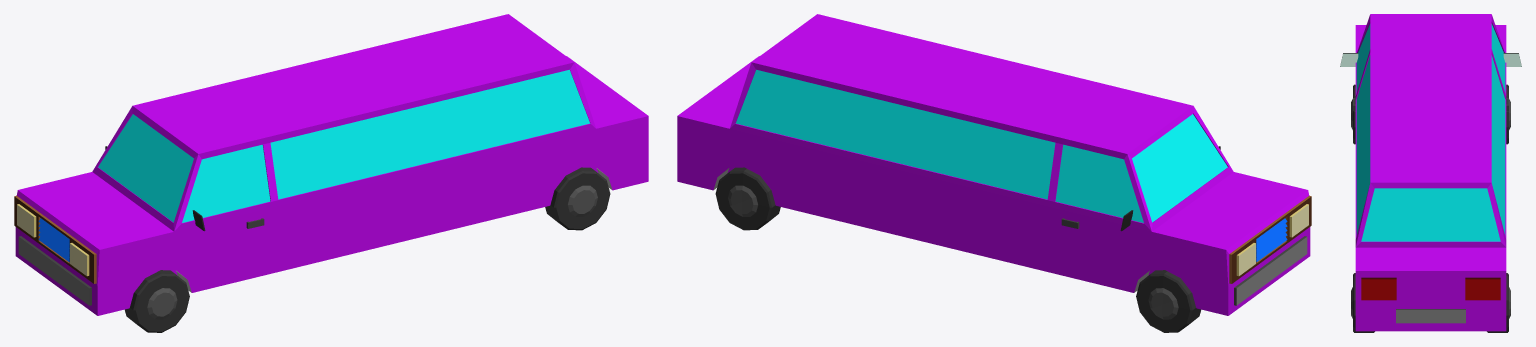
Rendered from limousineCar.glb.
3 views of the same model, side by side, from view 1: azimuth 30°, elevation 25°; view 2: azimuth 150°, elevation 25°; view 3: azimuth 270°, elevation 25° (orthographic). The views are drawn at different scales.
Visible parts, largest first — view 1: Limousine; view 2: Limousine; view 3: Limousine.
Boxes of the visible parts, <box> form: Limousine: <box>14,14,648,332</box>; Limousine: <box>677,14,1311,332</box>; Limousine: <box>1340,14,1521,332</box>.
Size of the model in its own units: 5.92 by 1.63 by 1.81.
1 material, 1 textured.
